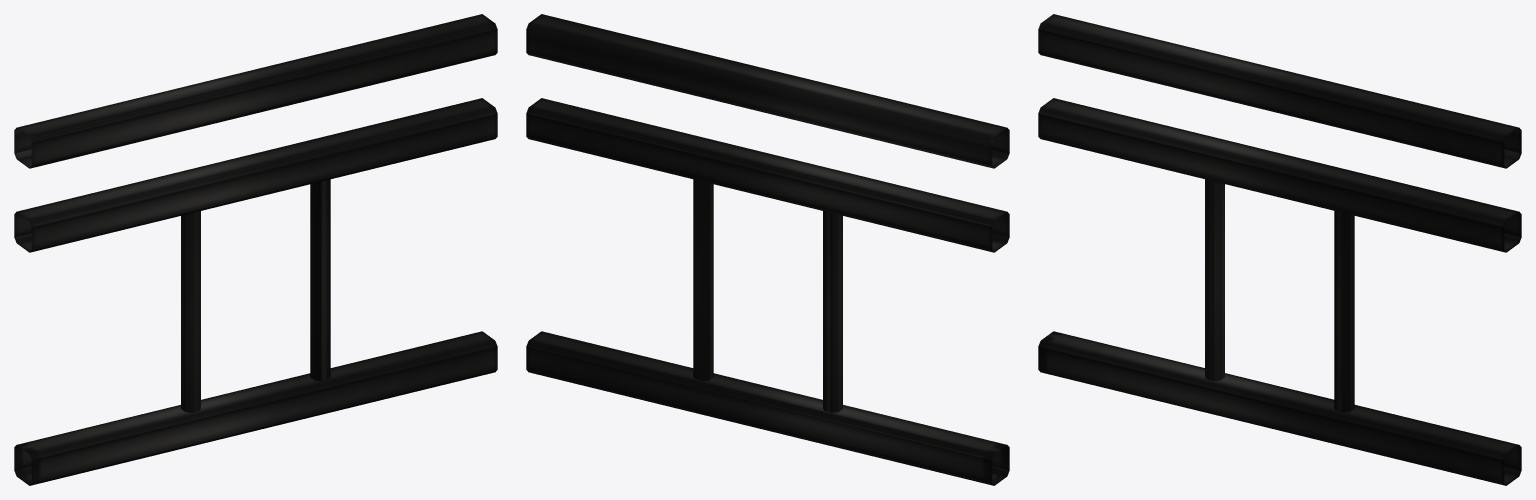
File: saku_between.fbx
3 renders of one model, left to right at view 1: azimuth 30°, elevation 25°; view 2: azimuth 150°, elevation 25°; view 3: azimuth 330°, elevation 25°, orthographic.
Visible parts, largest first — view 1: pCube123; view 2: pCube123; view 3: pCube123.
Part boxes in pixels (box(x1,y1,x2,y2)): pCube123: box(14, 14, 497, 485); pCube123: box(526, 14, 1009, 485); pCube123: box(1038, 14, 1521, 485).
Size of the model in its own units: 114 by 81.75 by 7.42.
